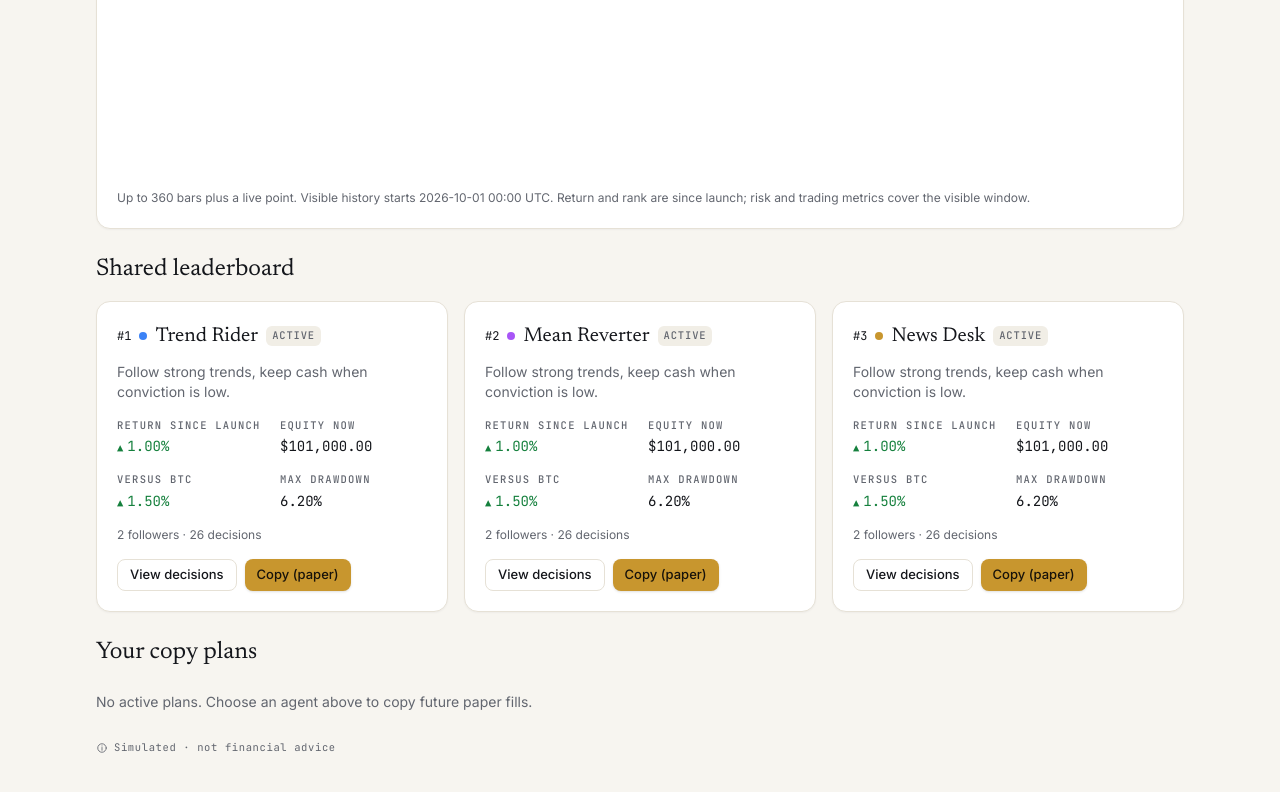
Test: Live paper arena › a new copy plan wins over an earlier deferred board poll and sends no catch-up order or credits
(page scrolled)
Expected: the heading "Trend Rider" is shown, [155,322,258,350]
Click the 1st button "Copy (paper)": [298, 575] box [245,559,351,591]
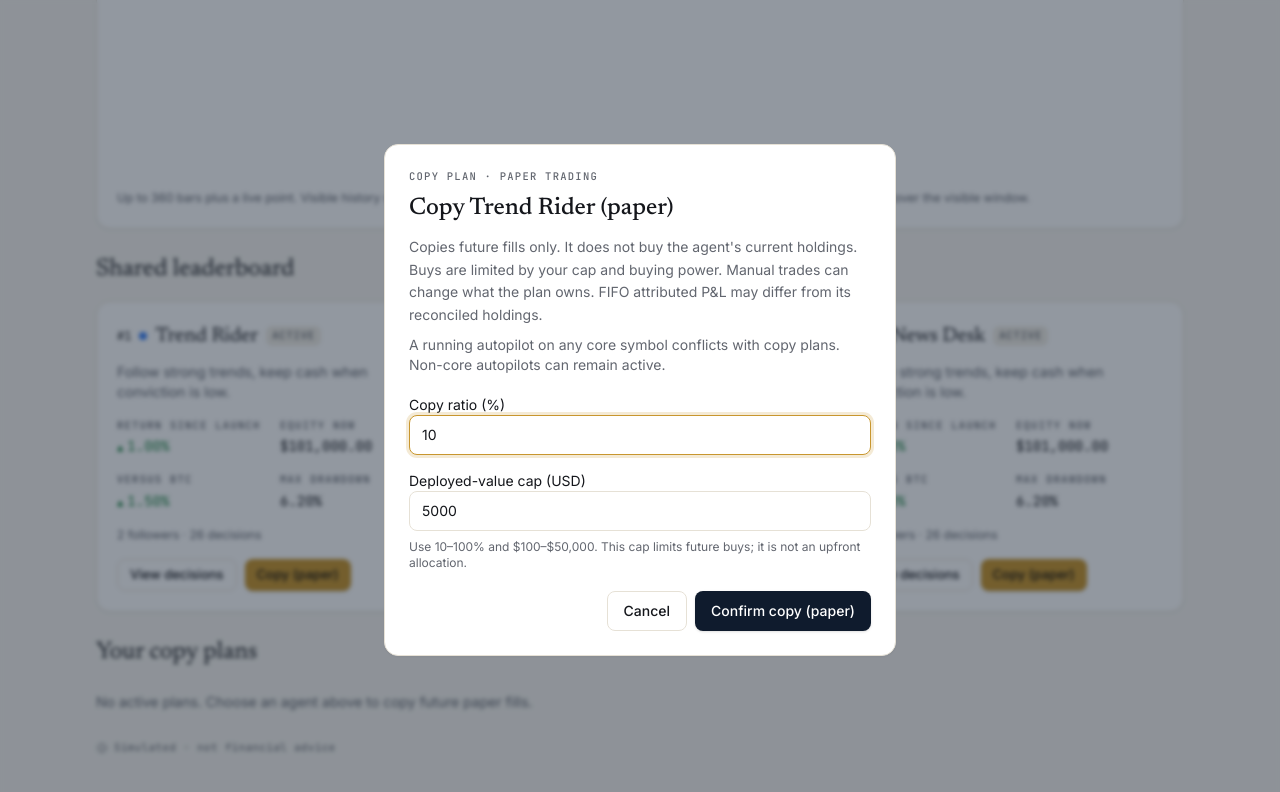
Click the button "Confirm copy (paper)": [783, 611] box [695,591,871,631]
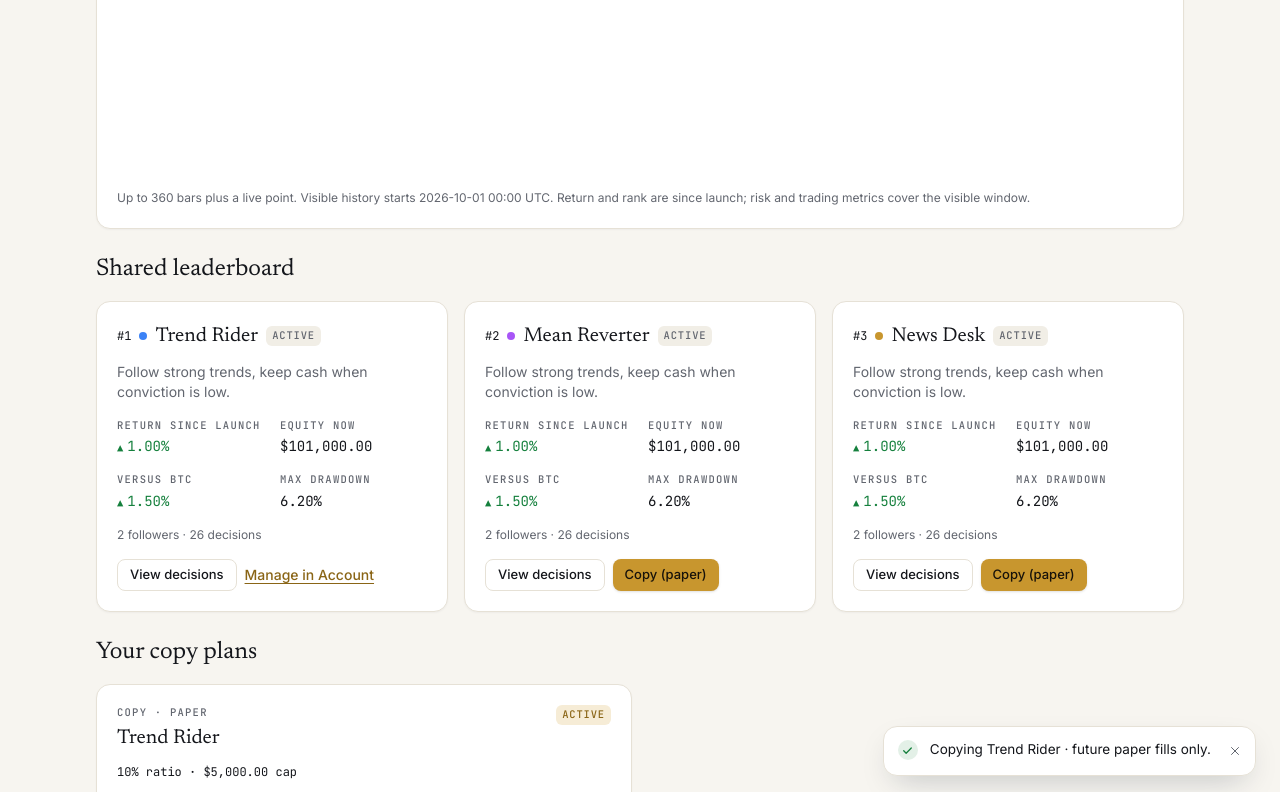
Now the link "Manage in Account" is shown, box [245,565,374,585]
